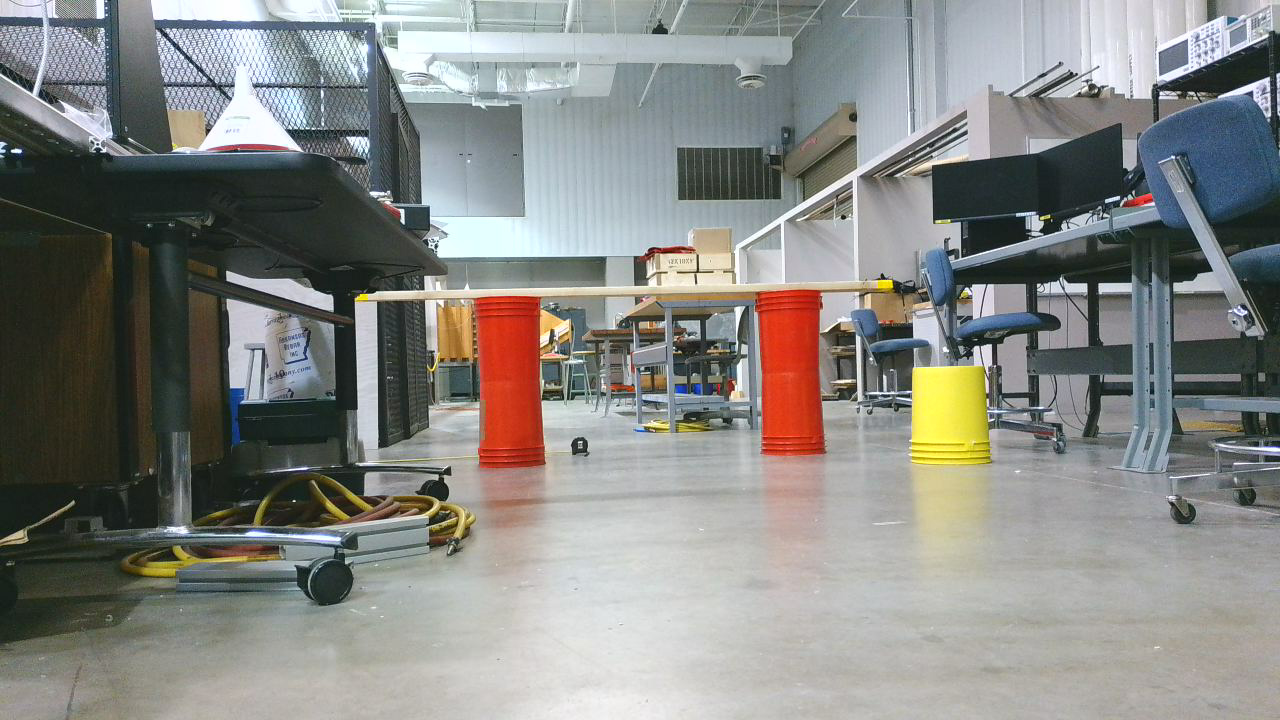red_bucket_arch: (480, 289, 832, 474)
yellow_bucket: (918, 366, 997, 467)
